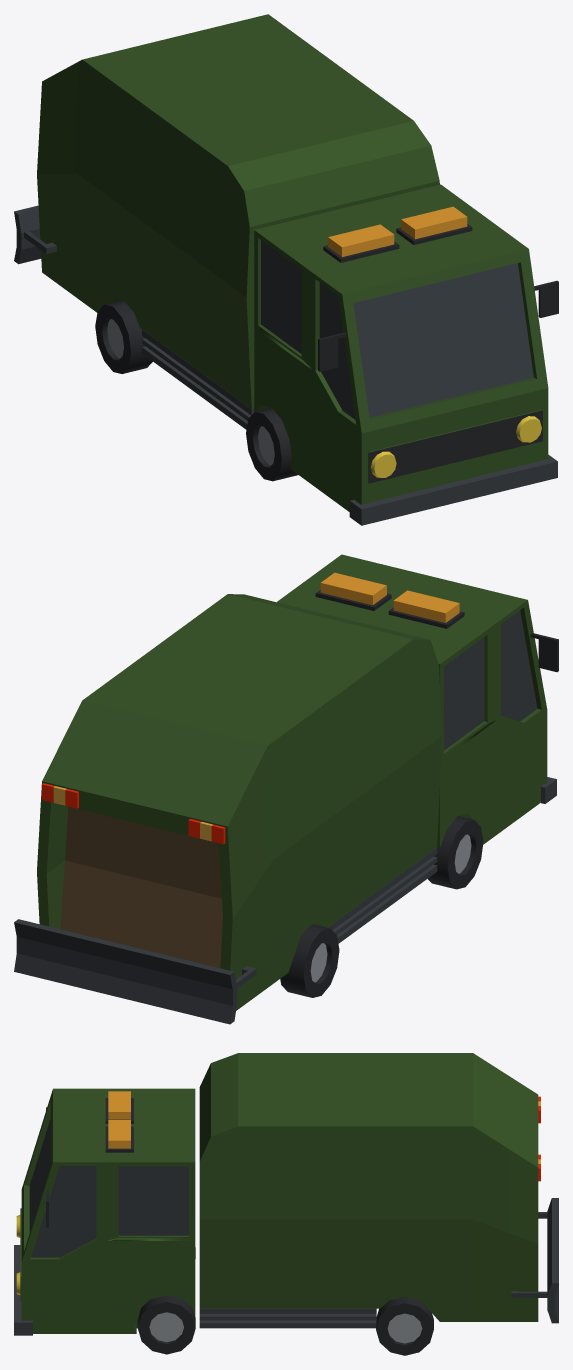
File: GarbageTruck_1.fbx
3 views of the same model, one above another, from view 1: azimuth 30°, elevation 25°; view 2: azimuth 150°, elevation 25°; view 3: azimuth 270°, elevation 25° (orthographic). The views are drawn at different scales.
Visible parts, largest first — view 1: GarbageTruck_1; view 2: GarbageTruck_1; view 3: GarbageTruck_1.
Part boxes in pixels (x1,y1,x2,y2): GarbageTruck_1: (14,14,558,525); GarbageTruck_1: (14,554,558,1024); GarbageTruck_1: (14,1053,558,1355).
Bounding box in the file's own units: 205 × 228 × 501.
